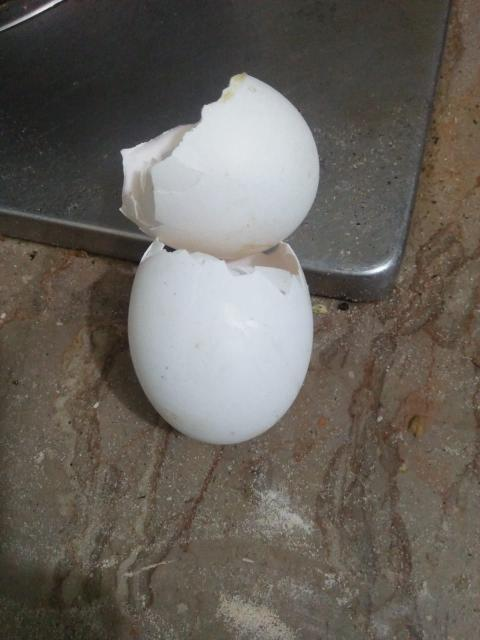Roto: (125, 237, 315, 445), (118, 71, 320, 259)
